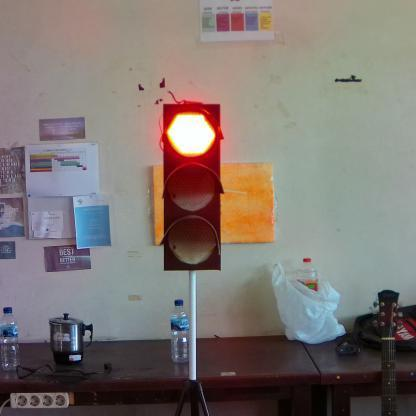red: (165, 104, 220, 269)
